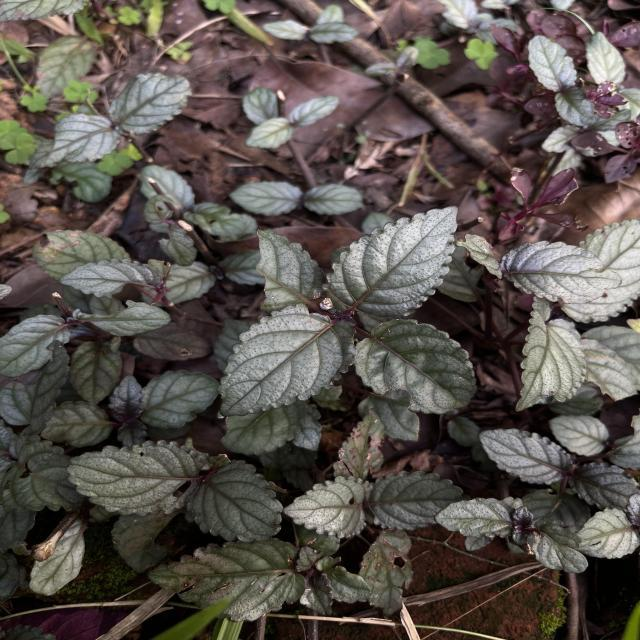Hemigraphis colorata: (216, 302, 360, 420), (320, 204, 460, 321), (144, 534, 308, 624), (352, 316, 478, 416), (65, 438, 206, 520), (182, 456, 286, 544), (514, 295, 588, 413), (497, 238, 623, 306), (476, 425, 578, 488), (280, 474, 371, 542), (57, 256, 164, 300), (0, 314, 73, 378), (72, 297, 174, 339), (432, 494, 516, 540), (528, 514, 590, 574), (574, 507, 640, 560)
